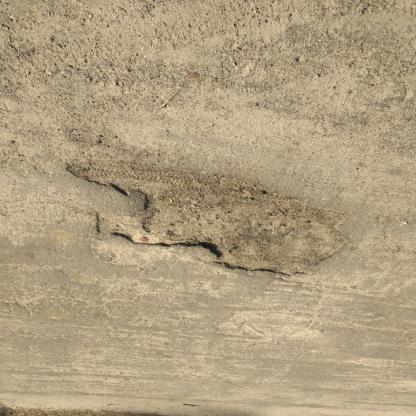pothole: (62, 158, 352, 281)
